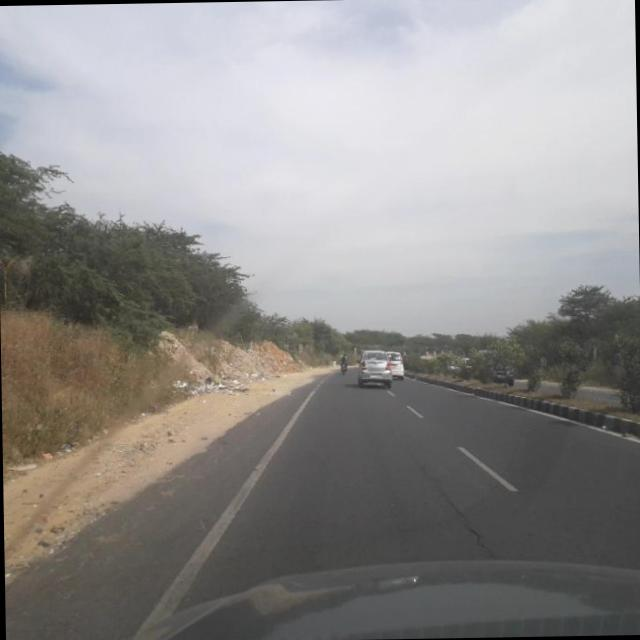crack: (411, 454, 498, 559)
